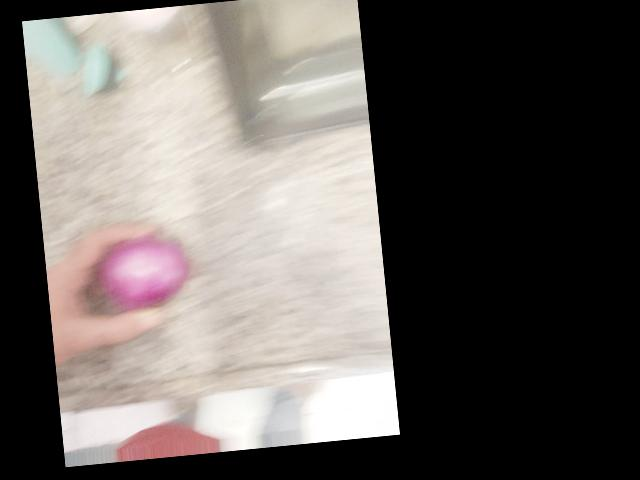onion: (265, 180, 346, 275)
